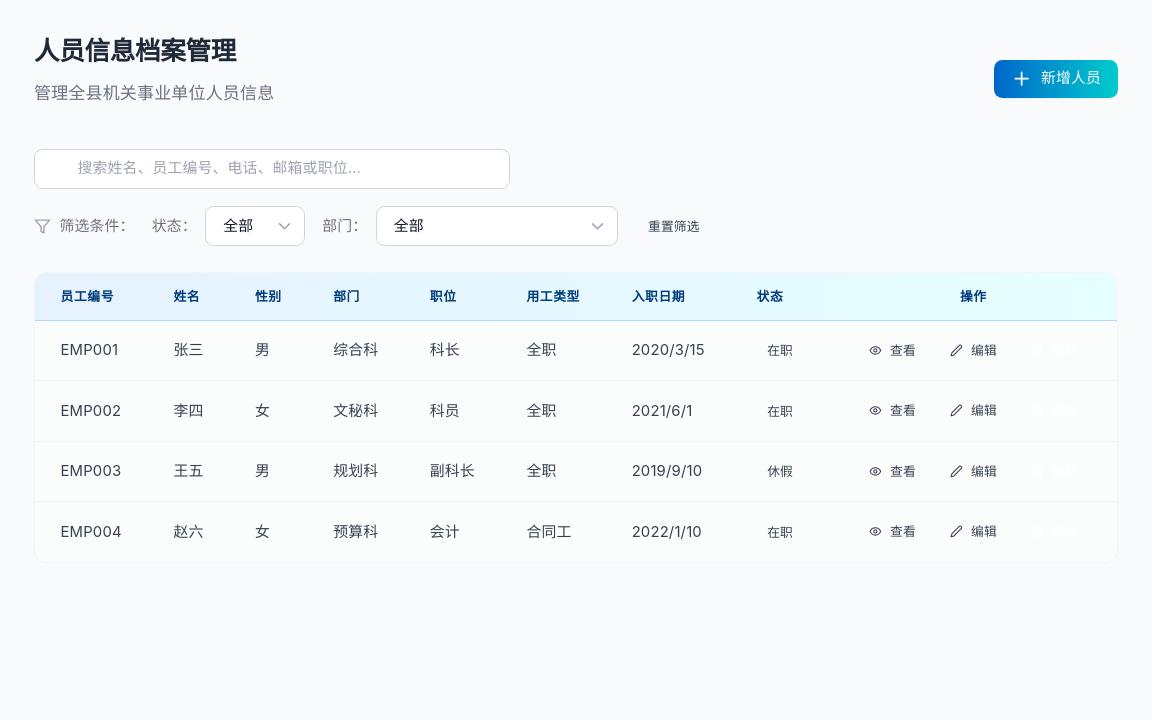
EmployeeManagement Page › filters employees by search term
This screenshot has width=1152, height=720.
Type "张三" into the field with placeholder "搜索姓名、员工编号、电话、邮箱或职位..." at (272, 169), box [34,149,510,189]
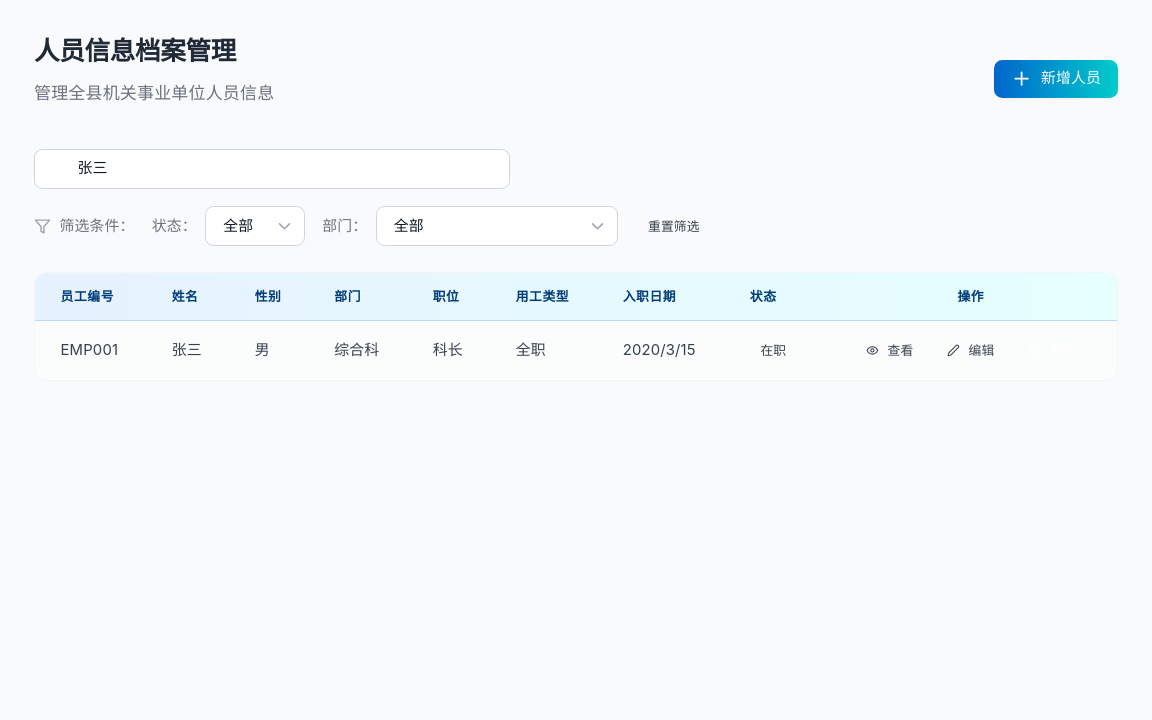
Check: the text "张三" is shown, box [146,320,229,380]
Check: the text "李四" is gone
